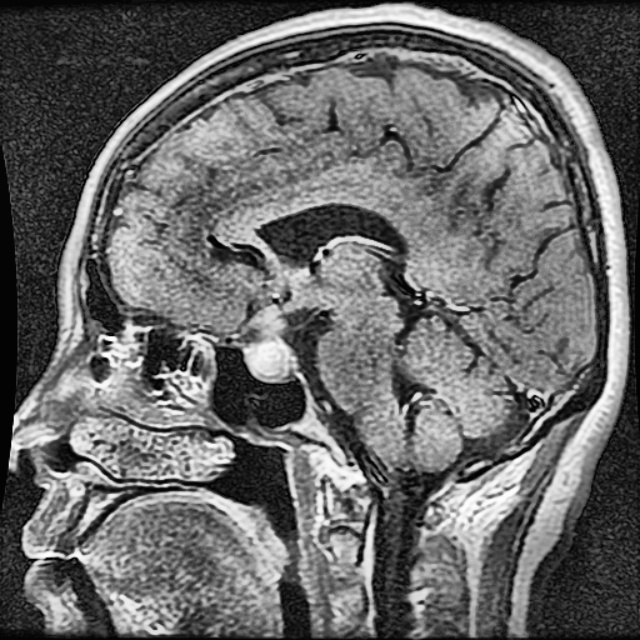Pituitary: (247, 307, 288, 382)
